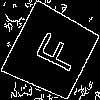F: (26, 26, 82, 75)
